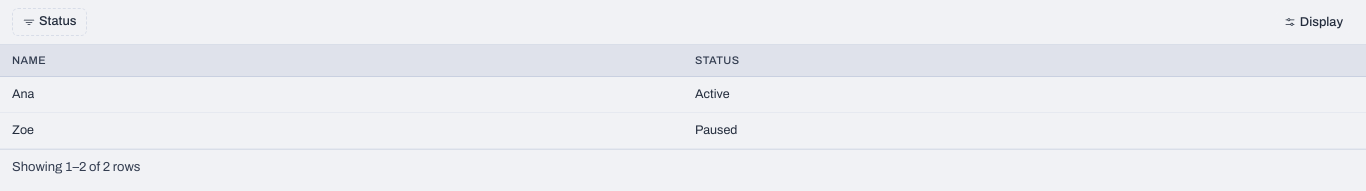
Test: DataTable toolbar › filters rows from a faceted filter and clears with Reset
Click the 1st button "Status" at [50, 22], box 12,8 -> 88,36
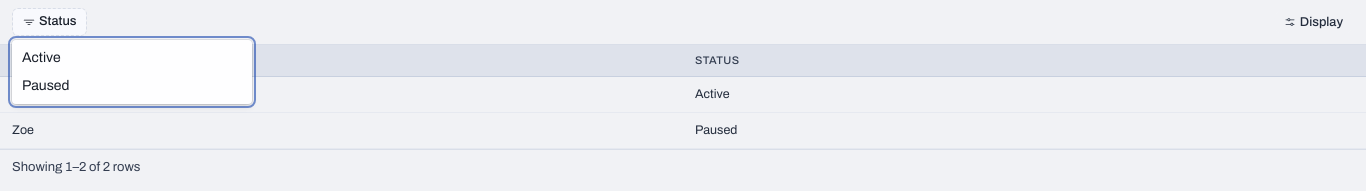
Click the menu item "Active" at [41, 58], box 22,50 -> 61,65
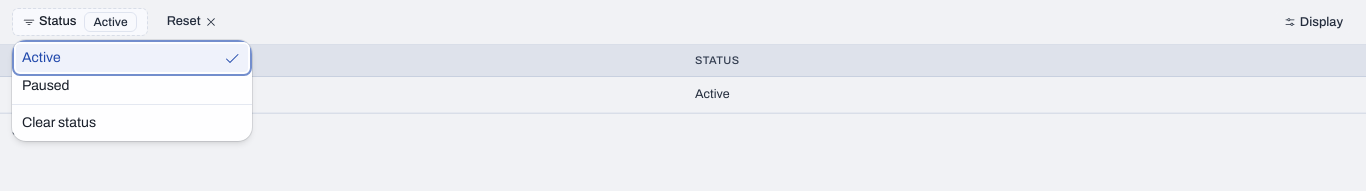
Expected: the text "Ana" is shown, 12,86 -> 34,103
Now the text "Zoe" is gone
